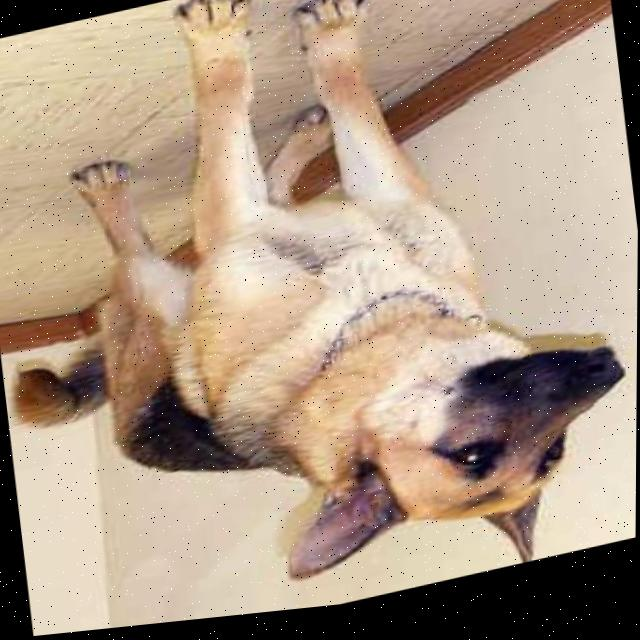dogs: (16, 0, 595, 638)
